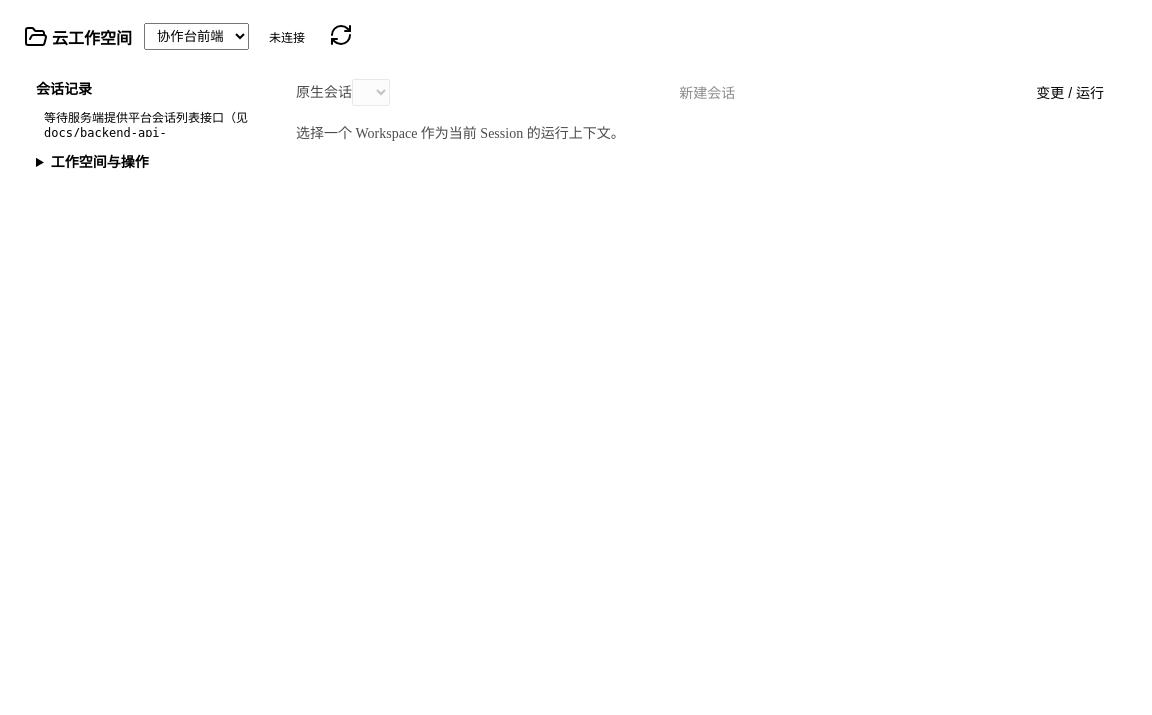
2-4 审批卡、接管与证据抽屉 › 审批卡逐项显示影响对象、权限、资产版本、风险、可撤销方式与有效期
Step 1. Click the button with aria-label "打开变更与运行面板" → (1070,92), box left=1024, top=78, right=1116, bottom=106
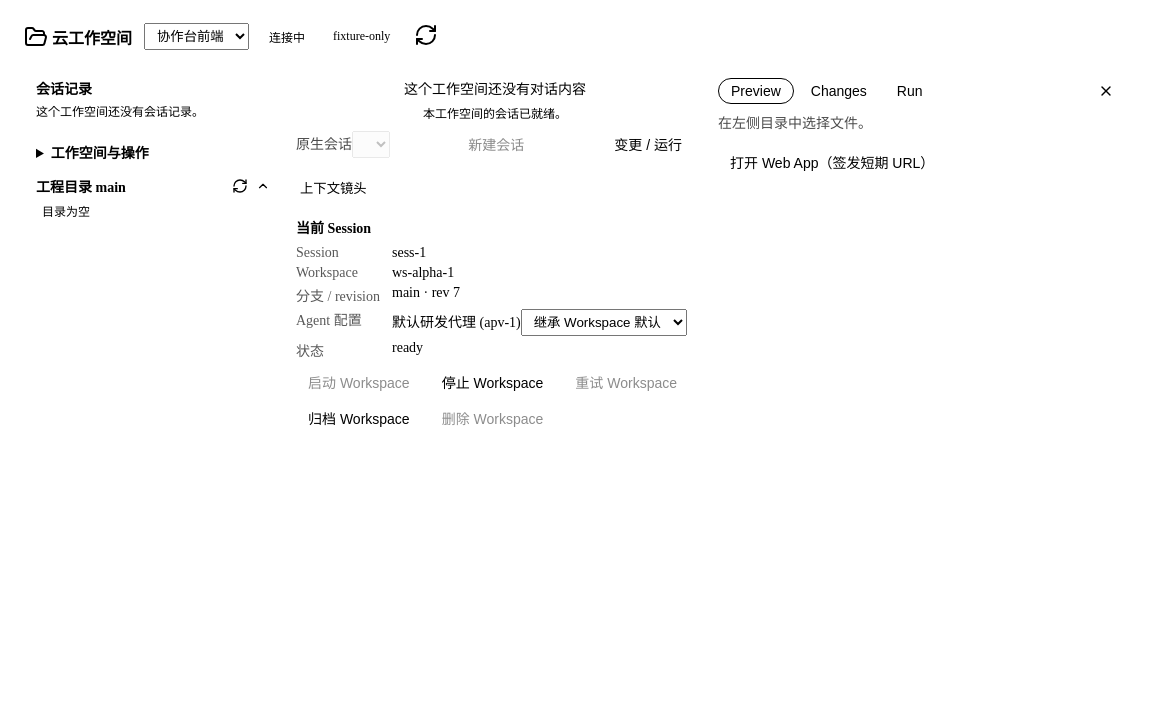
Step 2. Click the tab "Run" → (910,91), box left=884, top=78, right=936, bottom=104
(page scrolled)
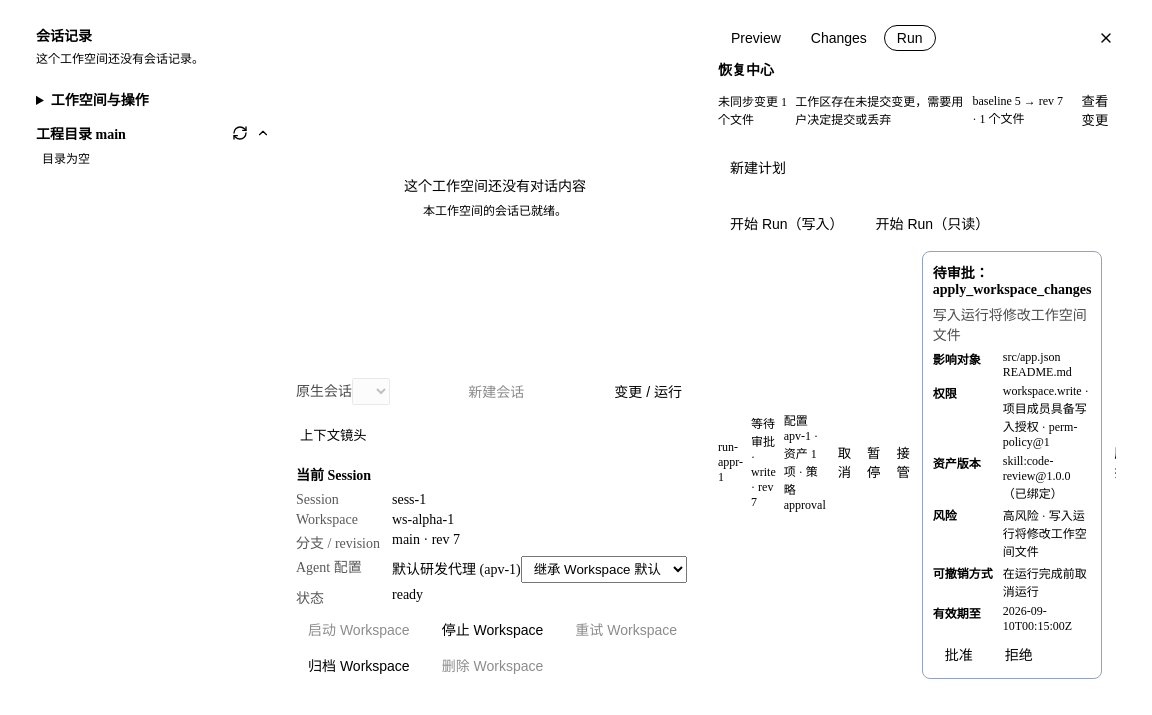
Check: the text "待审批：apply_workspace_changes" is shown, box left=933, top=262, right=1091, bottom=298
Check: the text "src/app.json" is shown, box left=1003, top=350, right=1060, bottom=364
Check: the text "README.md" is shown, box left=1003, top=365, right=1072, bottom=379
